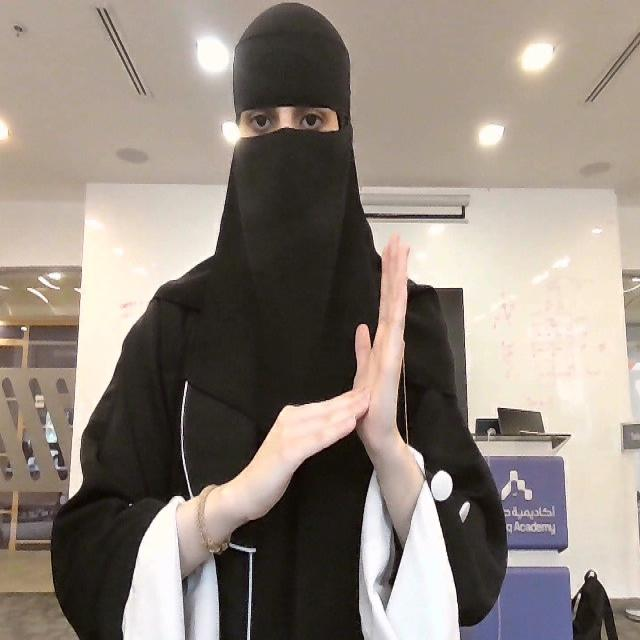complaint: (236, 227, 416, 534)
